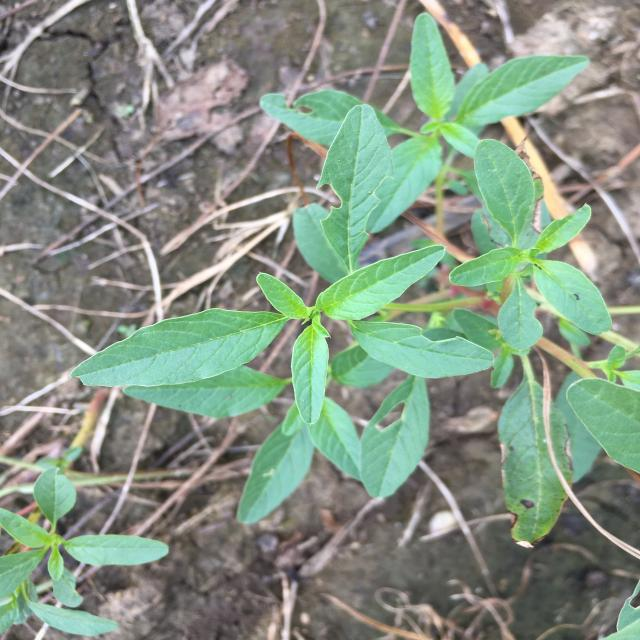Waterhemp: (70, 12, 640, 545), (0, 446, 168, 636)
